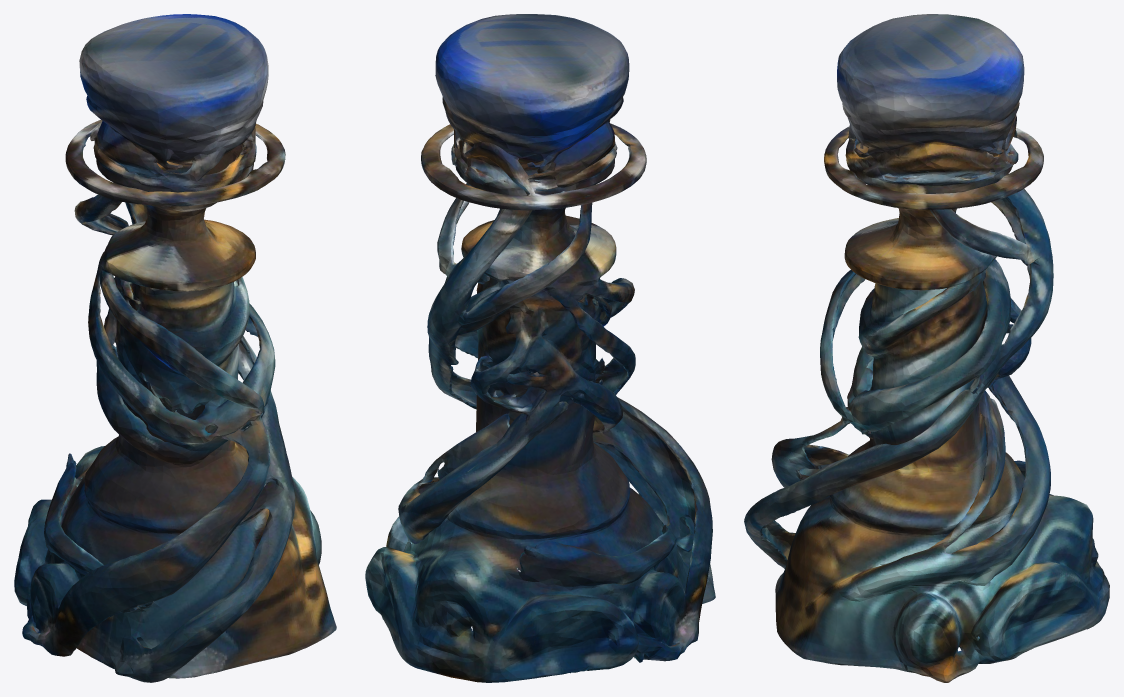
File: sullebaster_control_column.glb
3 views of the same model, side by side, from view 1: azimuth 30°, elevation 25°; view 2: azimuth 150°, elevation 25°; view 3: azimuth 270°, elevation 25° (orthographic). The views are drawn at different scales.
Size of the model in its own units: 1.09 by 2 by 1.16.
Materials: 1 (1 with a texture image).
